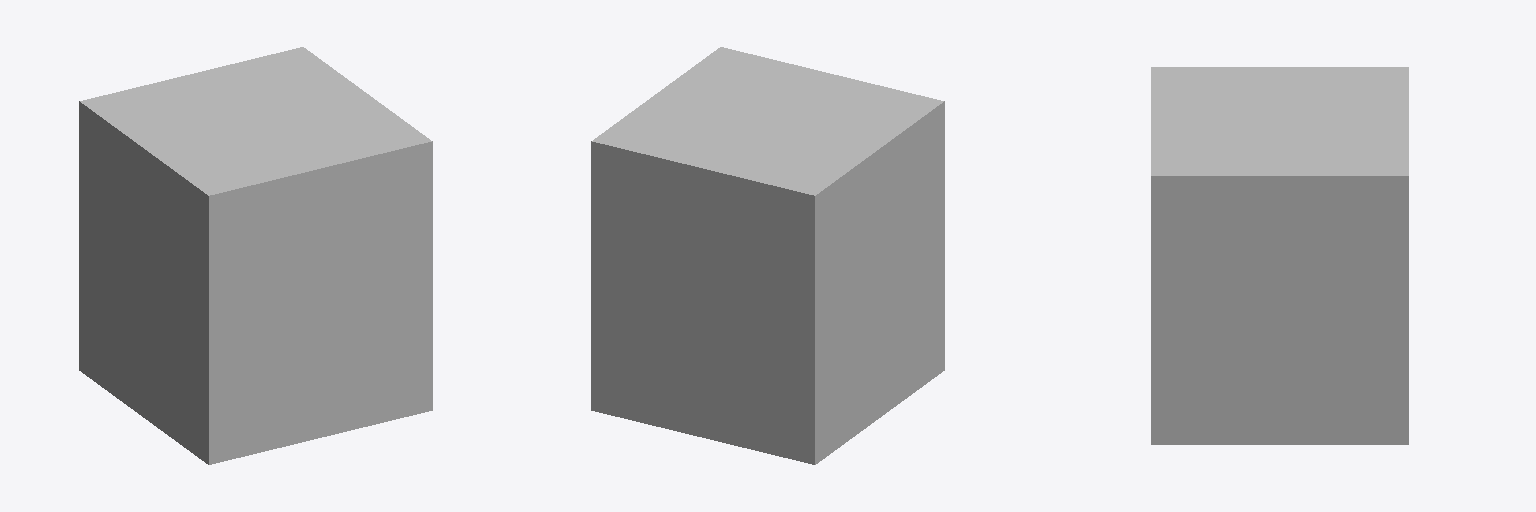
Rendered from buildingSPECIAL.obj.
3 renders of one model, left to right at view 1: azimuth 30°, elevation 25°; view 2: azimuth 150°, elevation 25°; view 3: azimuth 270°, elevation 25°, orthographic.
Parts seen in each view (by area): view 1: Cube; view 2: Cube; view 3: Cube.
Part boxes in pixels (bbox=[...]): Cube: bbox=[79, 47, 432, 464]; Cube: bbox=[591, 47, 944, 464]; Cube: bbox=[1151, 67, 1408, 444].
Size of the model in its own units: 40 by 46 by 40.